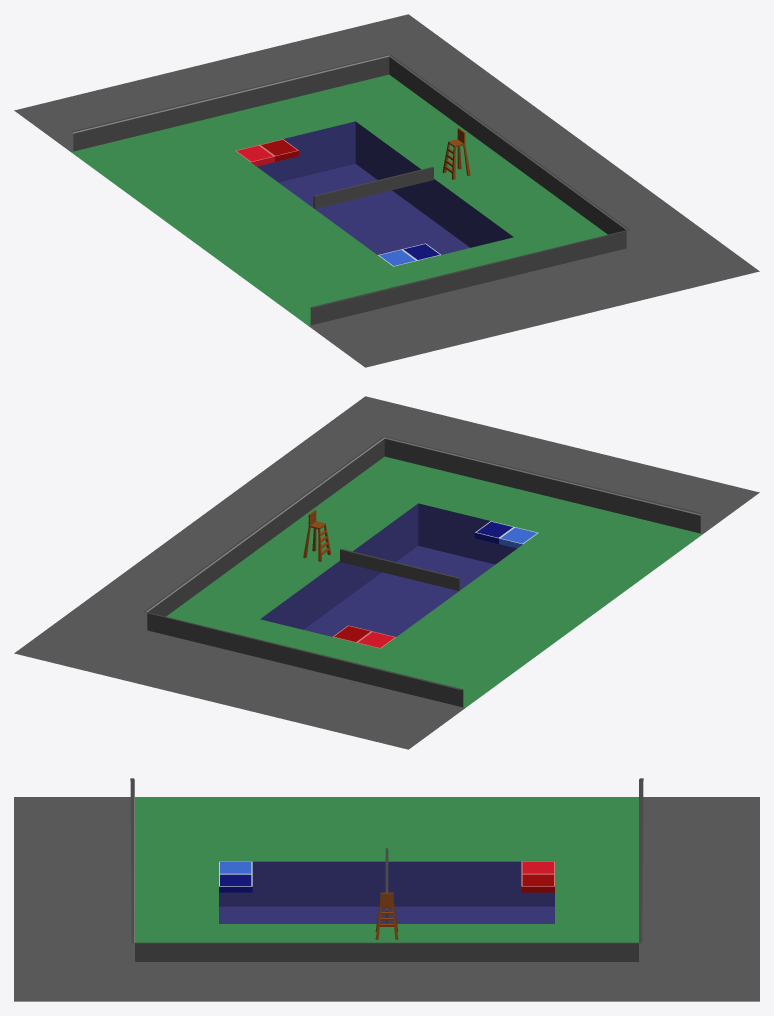
Rendered from MapaTenis.fbx.
3 views of the same model, one above another, from view 1: azimuth 30°, elevation 25°; view 2: azimuth 150°, elevation 25°; view 3: azimuth 270°, elevation 25° (orthographic). The views are drawn at different scales.
Parts seen in each view (by area): view 1: Chao, Metal, Rede, Cadeira; view 2: Chao, Metal, Rede, Cadeira; view 3: Chao, Metal, BlueBlock, RedBlock01, Cadeira, BlueBlock.001, RedBlock.
Part boxes in pixels (x1,y1,x2,y2): Chao: (14, 14, 759, 367); Metal: (71, 54, 630, 325); Rede: (313, 167, 433, 208); Cadeira: (442, 128, 470, 179); Chao: (14, 396, 759, 749); Metal: (143, 436, 702, 707); Rede: (340, 549, 460, 590); Cadeira: (303, 510, 331, 561); Chao: (14, 797, 759, 1001); Metal: (130, 778, 643, 961); BlueBlock: (219, 874, 252, 892); RedBlock01: (521, 874, 554, 892); Cadeira: (375, 892, 398, 939); BlueBlock.001: (219, 861, 252, 873); RedBlock: (521, 861, 554, 873).
Bounding box in the file's own units: 3309 × 680 × 5104.
